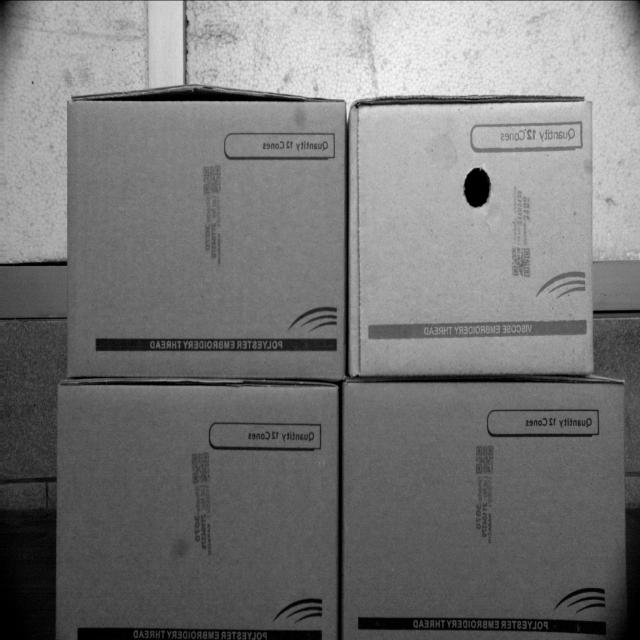cardboxes: (69, 100, 342, 377), (342, 385, 627, 639), (59, 382, 338, 639), (351, 103, 591, 377)
